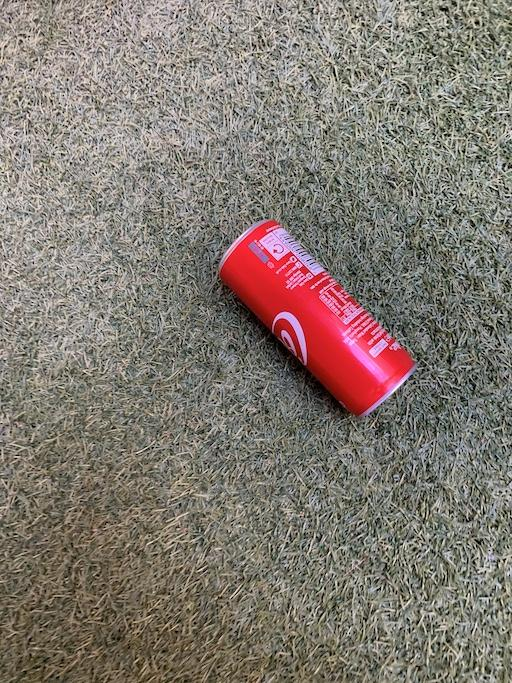Aluminum can: (199, 200, 447, 434)
